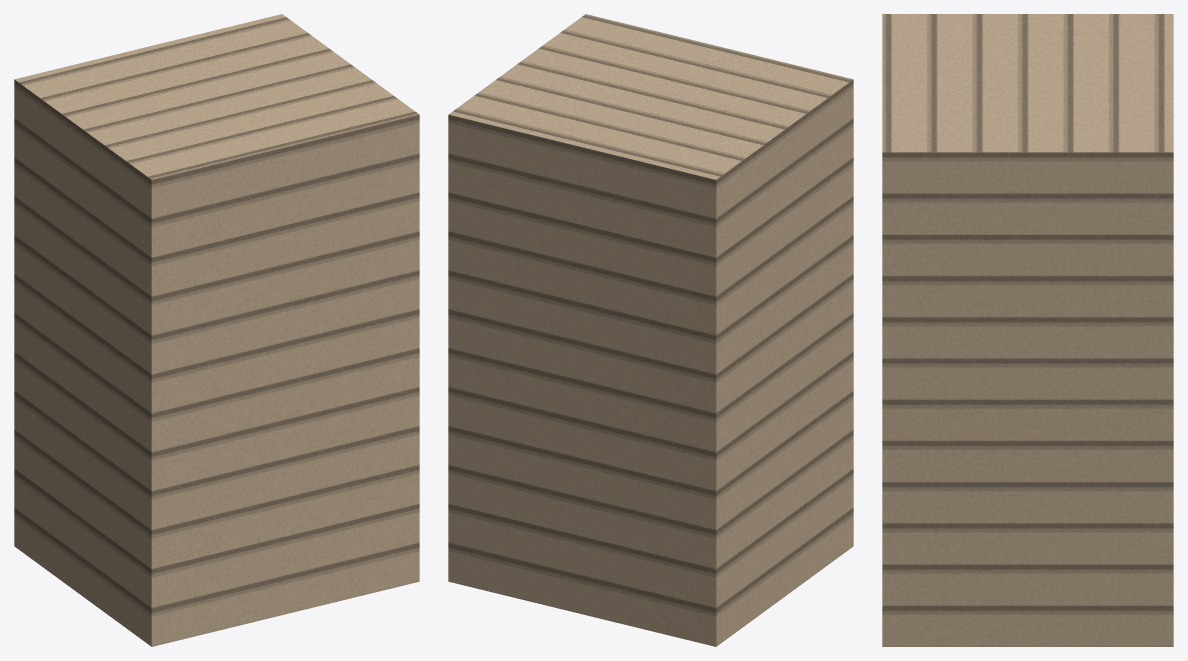
Rendered from commercial_dishwasher.glb.
3 views of the same model, side by side, from view 1: azimuth 30°, elevation 25°; view 2: azimuth 150°, elevation 25°; view 3: azimuth 270°, elevation 25° (orthographic). The views are drawn at different scales.
Visible parts, largest first — view 1: commercial_dishwasher-col; view 2: commercial_dishwasher-col; view 3: commercial_dishwasher-col.
Part boxes in pixels (x1,y1,x2,y2): commercial_dishwasher-col: [14, 14, 419, 646]; commercial_dishwasher-col: [448, 14, 853, 646]; commercial_dishwasher-col: [882, 14, 1173, 646].
Bounding box in the file's own units: 0.9 × 1.5 × 0.8.
Materials: 1 (1 with a texture image).
